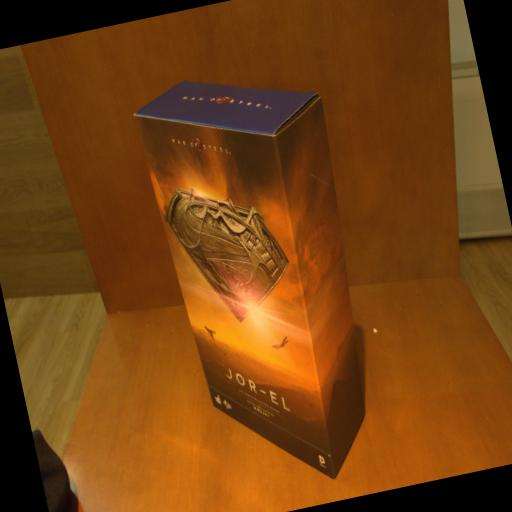superman: (130, 54, 399, 500)
